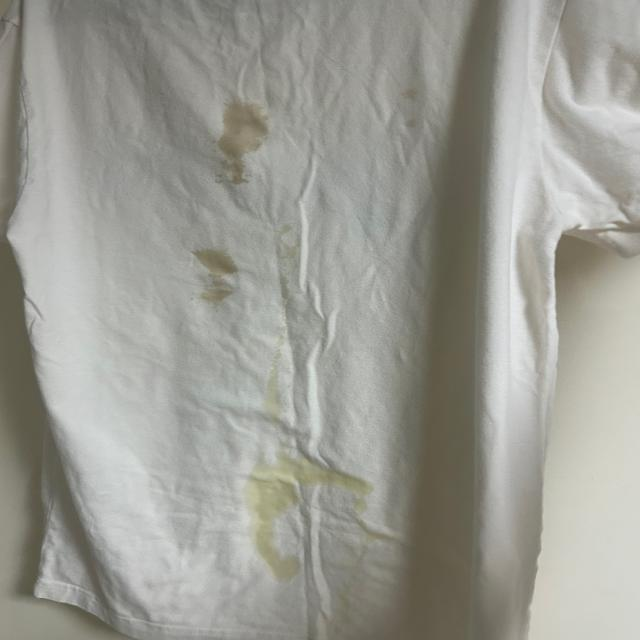stain: (241, 446, 364, 584), (200, 89, 284, 186), (245, 359, 298, 439), (257, 215, 310, 286), (188, 240, 246, 303), (383, 76, 426, 135), (346, 524, 406, 548)
